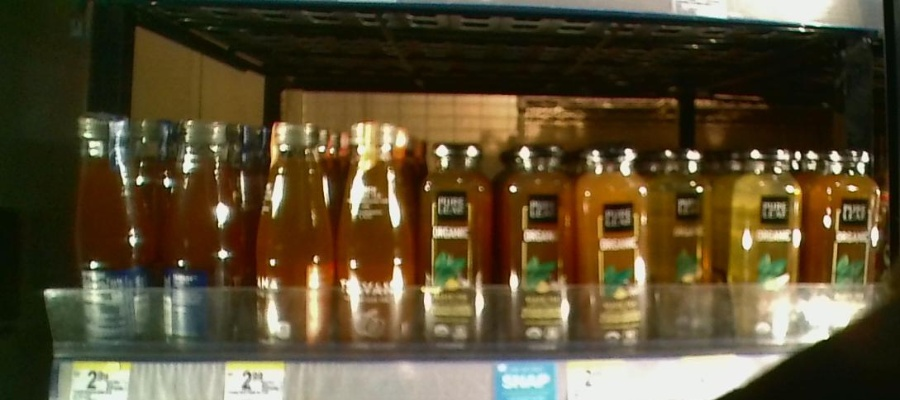bottle: (157, 113, 248, 357), (71, 104, 155, 356), (250, 114, 336, 359), (336, 118, 417, 362), (500, 135, 578, 357), (420, 128, 495, 353), (580, 137, 653, 353), (730, 142, 803, 344), (810, 146, 883, 331), (654, 142, 715, 342)
